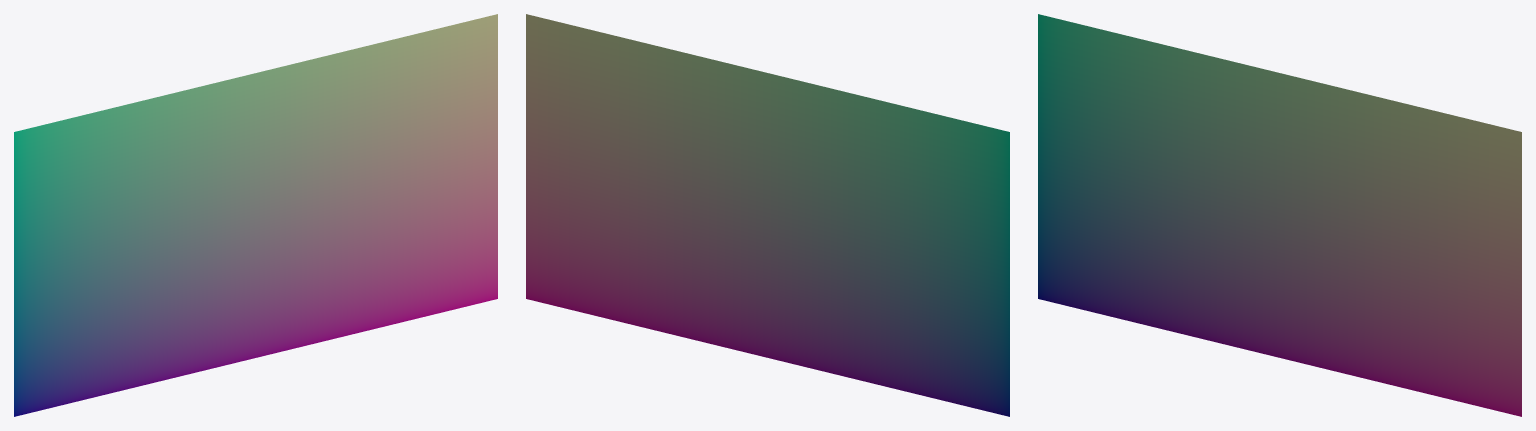
3 views of the same model, side by side, from view 1: azimuth 30°, elevation 25°; view 2: azimuth 150°, elevation 25°; view 3: azimuth 330°, elevation 25° (orthographic).
Visible parts, largest first — view 1: cloth_vellum; view 2: cloth_vellum; view 3: cloth_vellum.
Part boxes in pixels (<box>): cloth_vellum: <box>14,14,497,416</box>; cloth_vellum: <box>526,14,1009,416</box>; cloth_vellum: <box>1038,14,1521,416</box>.
Bounding box in the file's own units: 16 × 9 × 0.
